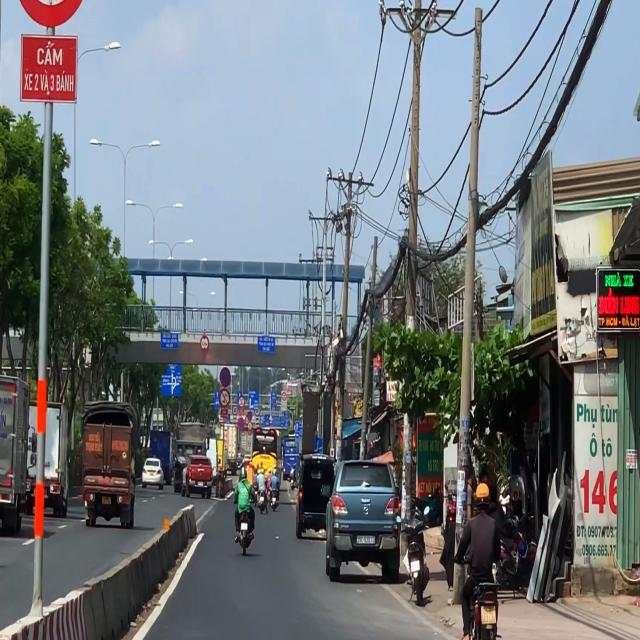Cam con lai: (219, 388, 230, 408)
Cam dung va do: (219, 367, 231, 387)
Chieu cao toi da: (200, 336, 209, 351)
